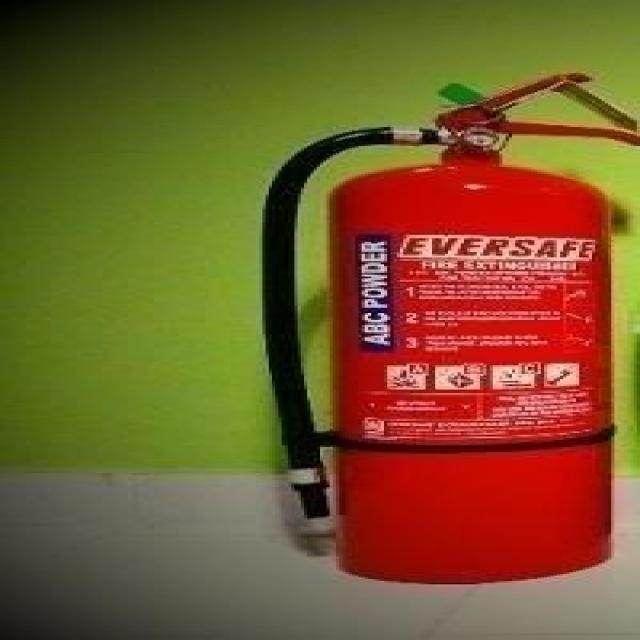fire_extinguisher: (246, 69, 637, 588)
